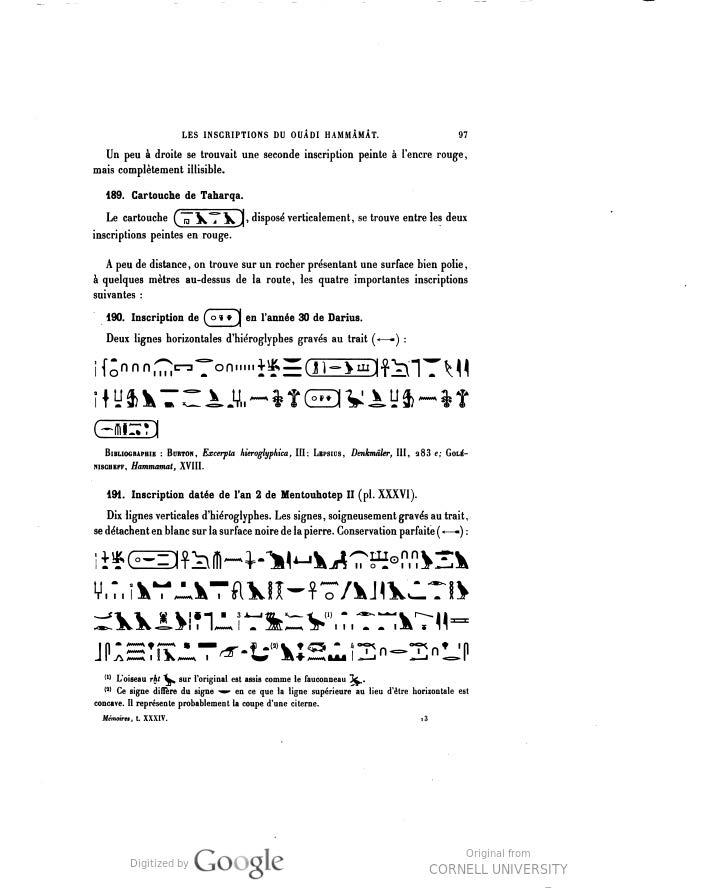circle: (298, 349, 388, 386), (164, 200, 261, 233), (89, 412, 171, 448), (125, 536, 184, 580), (202, 297, 259, 332), (292, 379, 348, 414)
